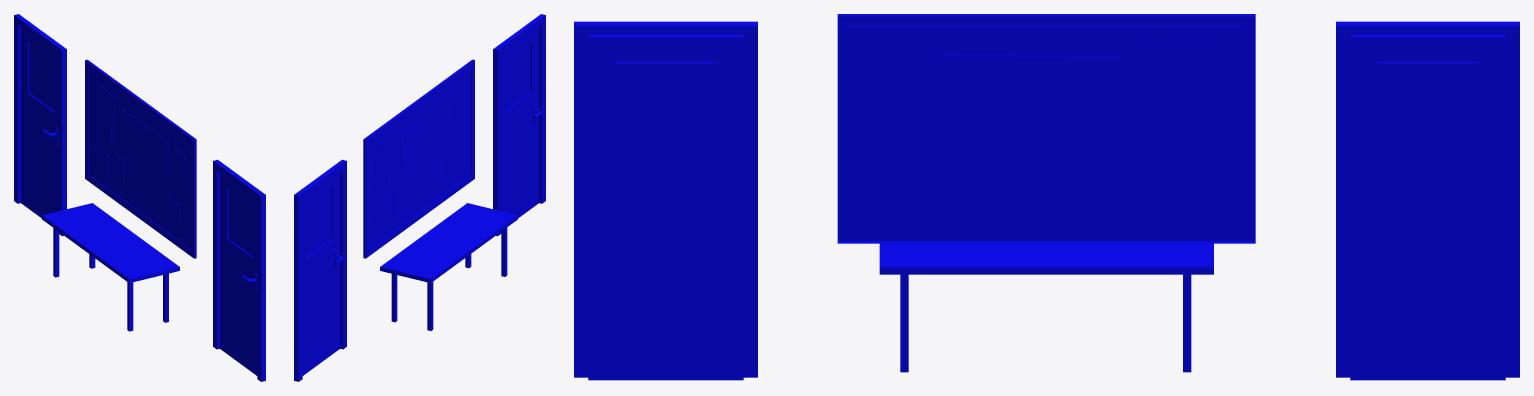
3 views of the same model, side by side, from view 1: azimuth 30°, elevation 25°; view 2: azimuth 150°, elevation 25°; view 3: azimuth 270°, elevation 25° (orthographic). The views are drawn at different scales.
Parts seen in each view (by area): view 1: Uv_001; view 2: Uv_001; view 3: Uv_001.
Part boxes in pixels (x1,y1,x2,y2): Uv_001: (14,14,265,381); Uv_001: (294,14,545,381); Uv_001: (574,14,1519,380).
Size of the model in its own units: 75.12 by 242 by 566.
